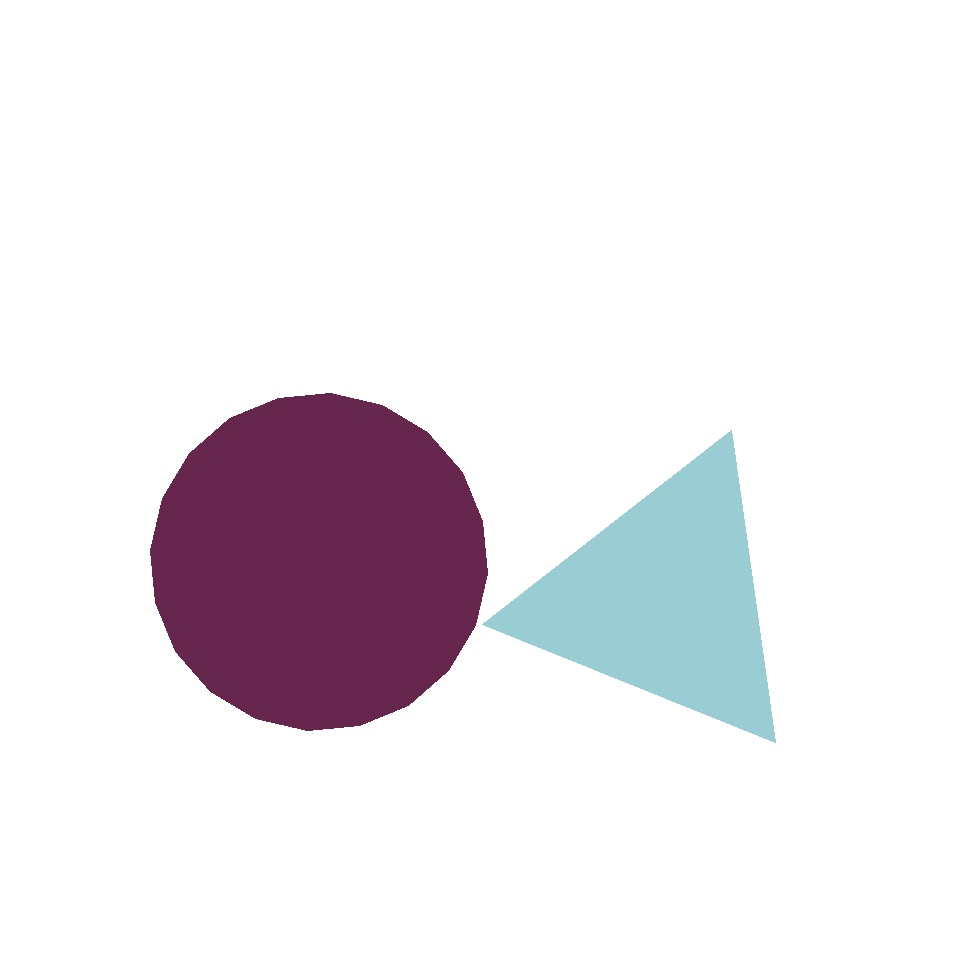circle: (516, 443, 810, 755), (641, 527, 921, 809)
triangle: (154, 566, 522, 934), (150, 394, 488, 730)
